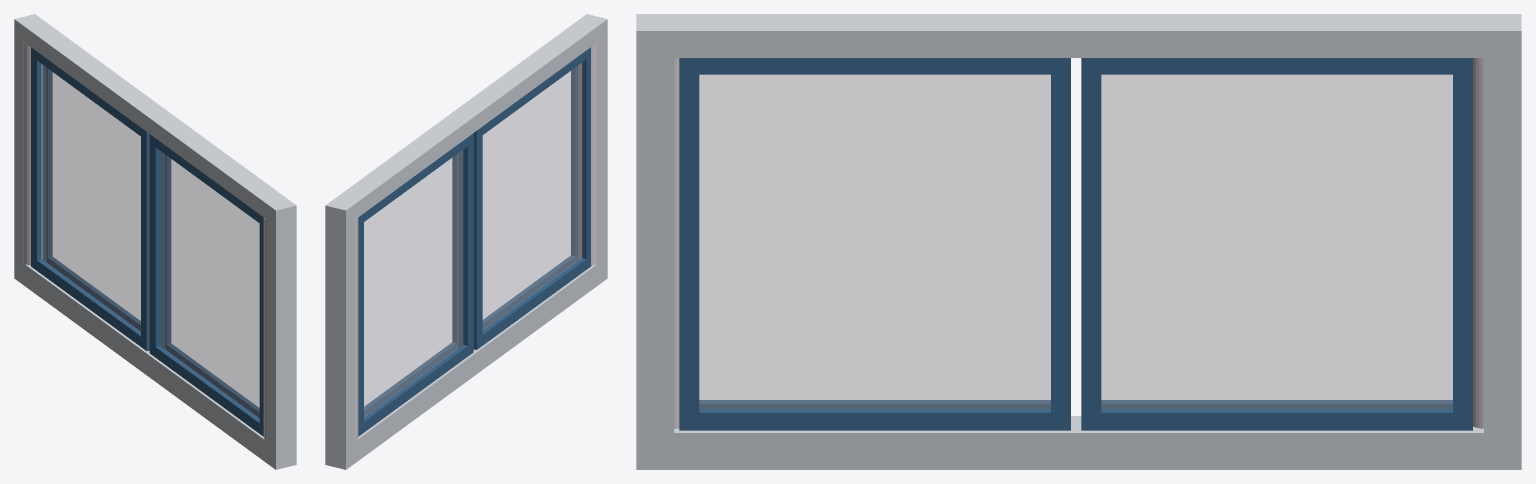
File: door_corrected_.gltf
3 renders of one model, left to right at view 1: azimuth 30°, elevation 25°; view 2: azimuth 150°, elevation 25°; view 3: azimuth 270°, elevation 25°, orthographic. The views are drawn at different scales.
Visible parts, largest first — view 1: Cube.002, Cube, Cylinder.001; view 2: Cube.002, Cube, Cylinder.001; view 3: Cube.002, Cube, Cylinder.001.
Boxes of the visible parts, box(x1,y1,x2,y2) form: Cube.002: box(31, 47, 263, 436); Cube: box(14, 14, 296, 469); Cylinder.001: box(23, 42, 266, 440); Cube.002: box(358, 47, 591, 436); Cube: box(325, 14, 607, 469); Cylinder.001: box(355, 42, 598, 440); Cube.002: box(679, 58, 1472, 430); Cube: box(636, 14, 1521, 469); Cylinder.001: box(674, 58, 1483, 428).
Bounding box in the file's own units: 0.1934 × 2.27 × 4.15.
